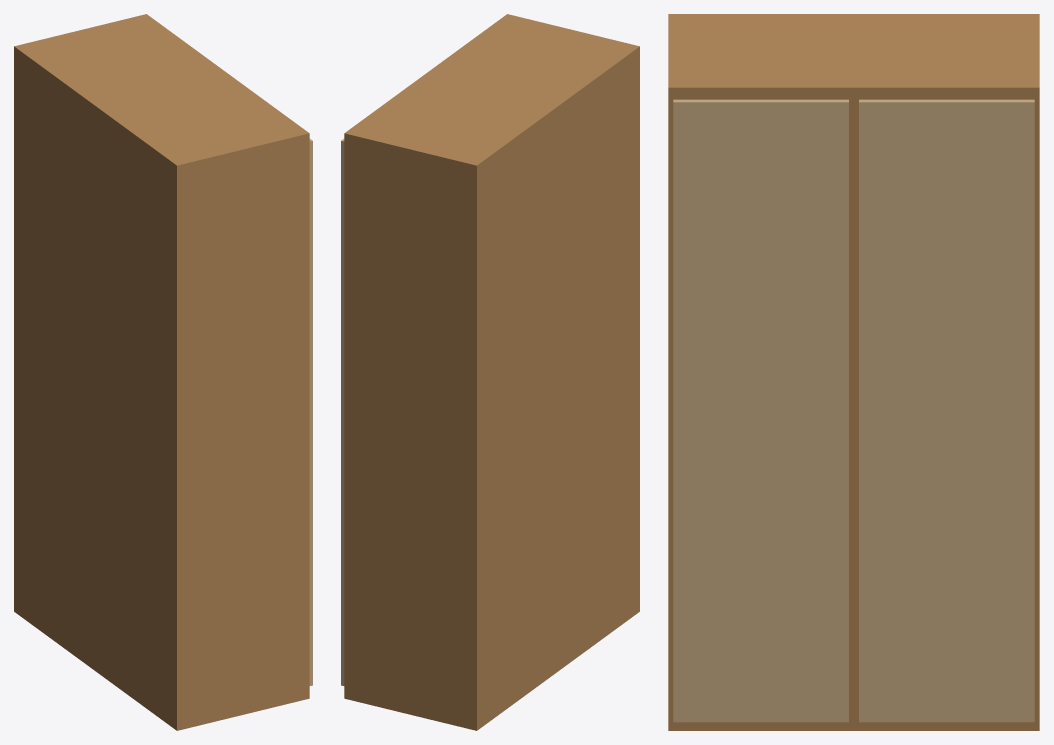
The picture shows the model from 3 angles, left to right: view 1: azimuth 30°, elevation 25°; view 2: azimuth 150°, elevation 25°; view 3: azimuth 270°, elevation 25°; orthographic projection. The views are drawn at different scales.
Visible parts, largest first — view 1: closet_master; view 2: closet_master; view 3: closet_master.
Boxes of the visible parts, box(x1,y1,x2,y2) form: closet_master: box(14, 14, 312, 730); closet_master: box(341, 14, 639, 730); closet_master: box(668, 14, 1039, 730).
Bounding box in the file's own units: 0.562 × 1.15 × 2.2.
